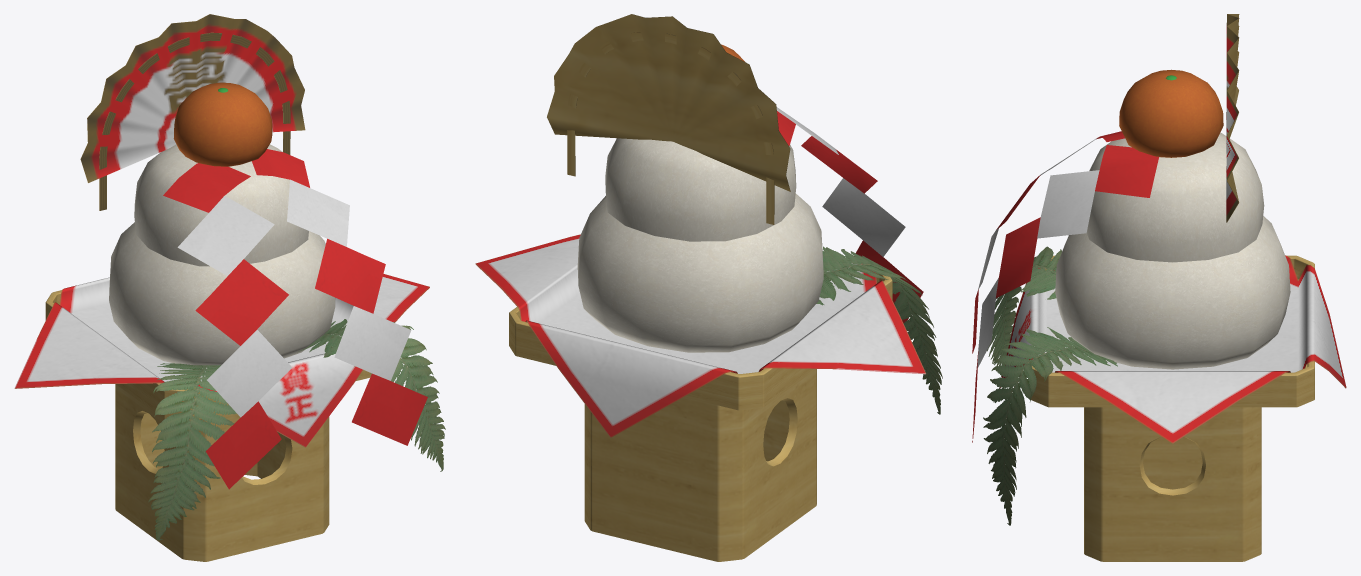
File: Kagamimochi01.fbx
3 renders of one model, left to right at view 1: azimuth 30°, elevation 25°; view 2: azimuth 150°, elevation 25°; view 3: azimuth 270°, elevation 25°, orthographic. The views are drawn at different scales.
Visible parts, largest first — view 1: Kagamimochi01; view 2: Kagamimochi01; view 3: Kagamimochi01.
Boxes of the visible parts, left/top/right/bottom form: Kagamimochi01: left=14, top=14, right=445, bottom=561; Kagamimochi01: left=475, top=14, right=942, bottom=561; Kagamimochi01: left=972, top=14, right=1346, bottom=561.
Bounding box in the file's own units: 55.15 × 60.39 × 41.11.
